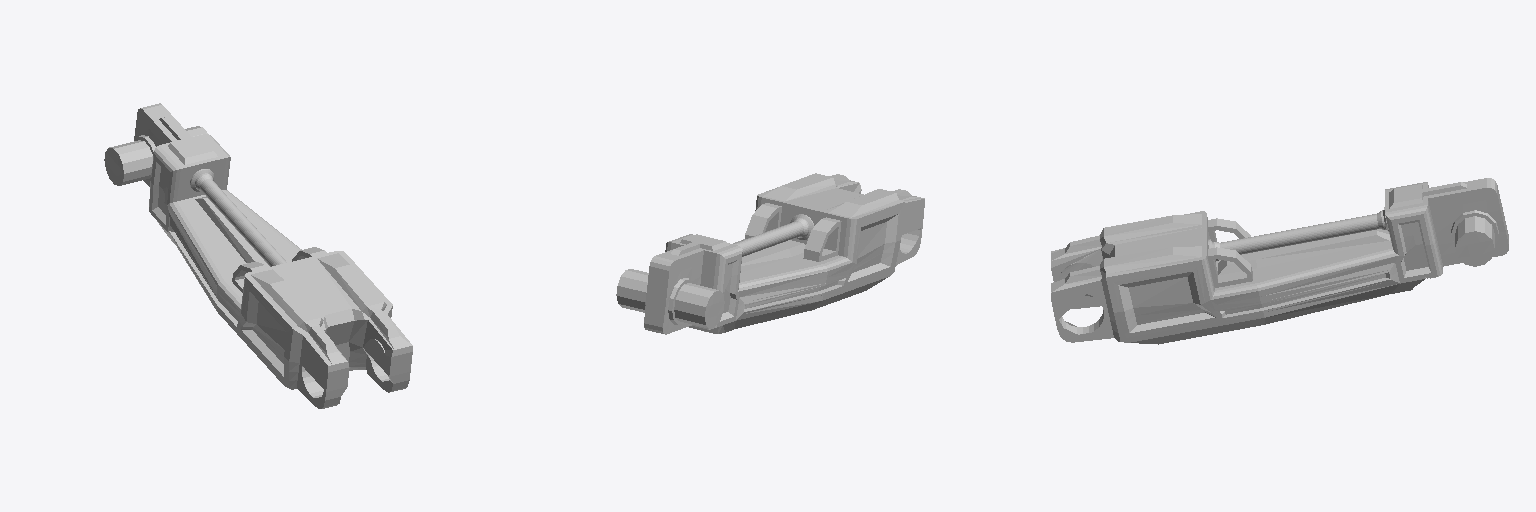
File: leg_r_02.obj
3 views of the same model, side by side, from view 1: azimuth 30°, elevation 25°; view 2: azimuth 150°, elevation 25°; view 3: azimuth 270°, elevation 25° (orthographic).
Parts seen in each view (by area): view 1: leg_r_02_Cylinder.010; view 2: leg_r_02_Cylinder.010; view 3: leg_r_02_Cylinder.010.
Boxes of the visible parts, x1=… form: leg_r_02_Cylinder.010: x1=104, y1=103, x2=412, y2=408; leg_r_02_Cylinder.010: x1=616, y1=173, x2=924, y2=334; leg_r_02_Cylinder.010: x1=1051, y1=178, x2=1508, y2=344.
Size of the model in its own units: 0.2361 by 0.3308 by 0.9385.